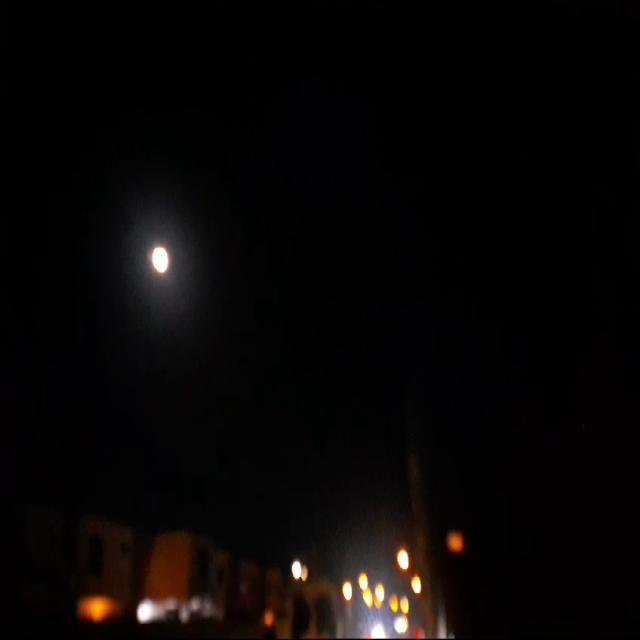moon: (142, 222, 163, 258)
